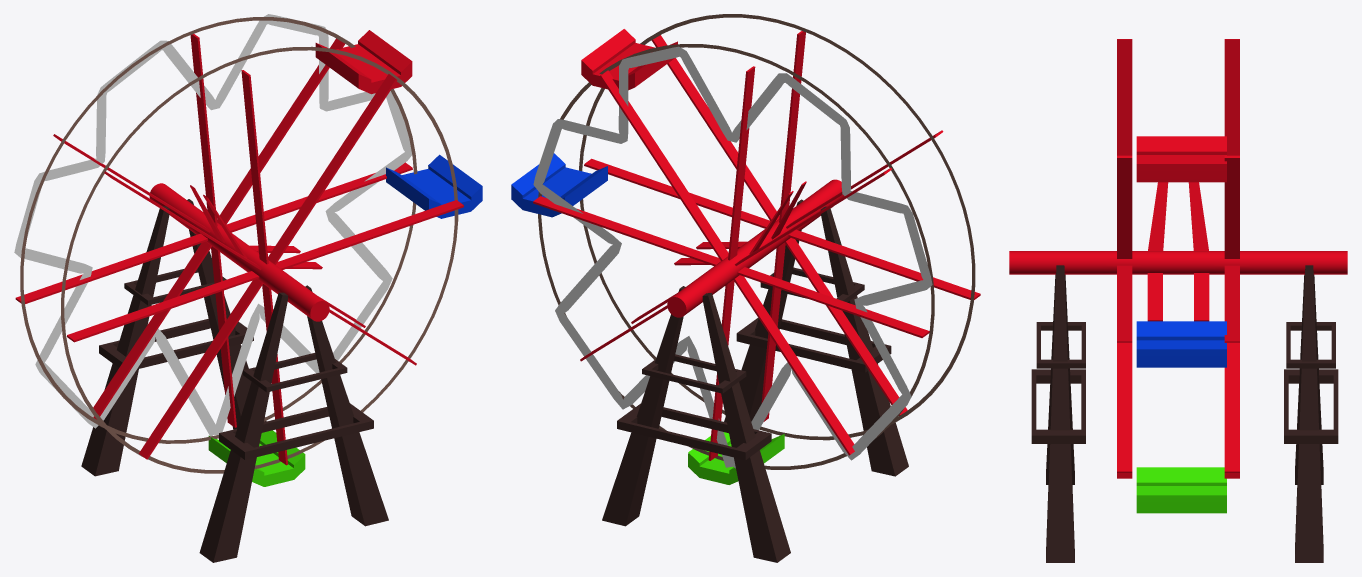
Rendered from Giant Wheel.fbx.
3 renders of one model, left to right at view 1: azimuth 30°, elevation 25°; view 2: azimuth 150°, elevation 25°; view 3: azimuth 270°, elevation 25°, orthographic. The views are drawn at different scales.
Parts seen in each view (by area): view 1: Cylinder, NurbsPath, Cube, Cube.001, Circle.004, Circle.005, Cube.010, Cube.008, Plane.003, Cube.014, Plane.002, Plane.001 (+1 smaller); view 2: Cylinder, NurbsPath, Cube.001, Cube, Circle.004, Circle.005, Cube.010, Plane.002, Cube.008, Plane.003, Cube.014, Plane (+1 smaller); view 3: Cylinder, Cube, Cube.001, Cube.008, Cube.010, Cube.014, Plane.002, Plane.003, Plane, Plane.001.
Boxes of the visible parts, bbox=[...] form: Cylinder: bbox=[15, 34, 463, 465]; NurbsPath: bbox=[14, 14, 412, 436]; Cube: bbox=[199, 285, 388, 562]; Cube.001: bbox=[81, 199, 266, 476]; Circle.004: bbox=[61, 46, 458, 473]; Circle.005: bbox=[20, 17, 417, 443]; Cube.010: bbox=[386, 154, 482, 218]; Cube.008: bbox=[315, 30, 412, 94]; Plane.003: bbox=[219, 403, 373, 459]; Cube.014: bbox=[208, 430, 305, 486]; Plane.002: bbox=[99, 318, 253, 369]; Plane.001: bbox=[243, 353, 347, 392]; Cylinder: bbox=[533, 31, 980, 460]; NurbsPath: bbox=[533, 46, 932, 468]; Cube.001: bbox=[602, 286, 790, 562]; Cube: bbox=[724, 199, 908, 476]; Circle.004: bbox=[579, 14, 975, 440]; Circle.005: bbox=[538, 44, 934, 469]; Cube.010: bbox=[511, 153, 607, 217]; Plane.002: bbox=[617, 403, 771, 460]; Cube.008: bbox=[581, 29, 677, 90]; Plane.003: bbox=[736, 318, 891, 372]; Cube.014: bbox=[688, 432, 784, 484]; Plane: bbox=[642, 354, 746, 393]; Cylinder: bbox=[1009, 39, 1347, 478]; Cube: bbox=[1046, 265, 1074, 562]; Cube.001: bbox=[1295, 265, 1323, 562]; Cube.008: bbox=[1136, 136, 1226, 182]; Cube.010: bbox=[1136, 321, 1226, 367]; Cube.014: bbox=[1136, 467, 1226, 513]; Plane.002: bbox=[1284, 369, 1338, 443]; Plane.003: bbox=[1031, 369, 1085, 443]; Plane: bbox=[1286, 322, 1335, 368]; Plane.001: bbox=[1036, 322, 1085, 368].
Bounding box in the file's own units: 1333 × 1377 × 876.
